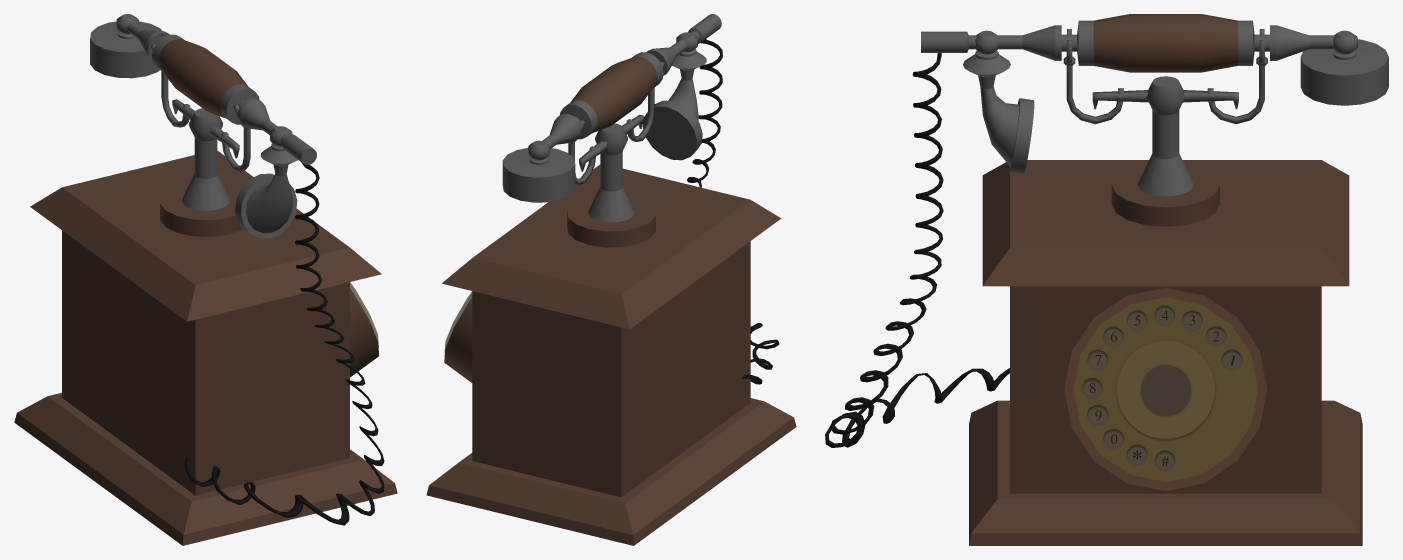
Rendered from S_Telephone.fbx.
3 views of the same model, side by side, from view 1: azimuth 30°, elevation 25°; view 2: azimuth 150°, elevation 25°; view 3: azimuth 270°, elevation 25° (orthographic). The views are drawn at different scales.
Visible parts, largest first — view 1: S_Telephone; view 2: S_Telephone; view 3: S_Telephone.
Part boxes in pixels (box(x1,y1,x2,y2)): S_Telephone: box(14, 14, 397, 545); S_Telephone: box(426, 14, 796, 545); S_Telephone: box(825, 14, 1388, 545).
Bounding box in the file's own units: 33.81 × 49.68 × 54.25.
